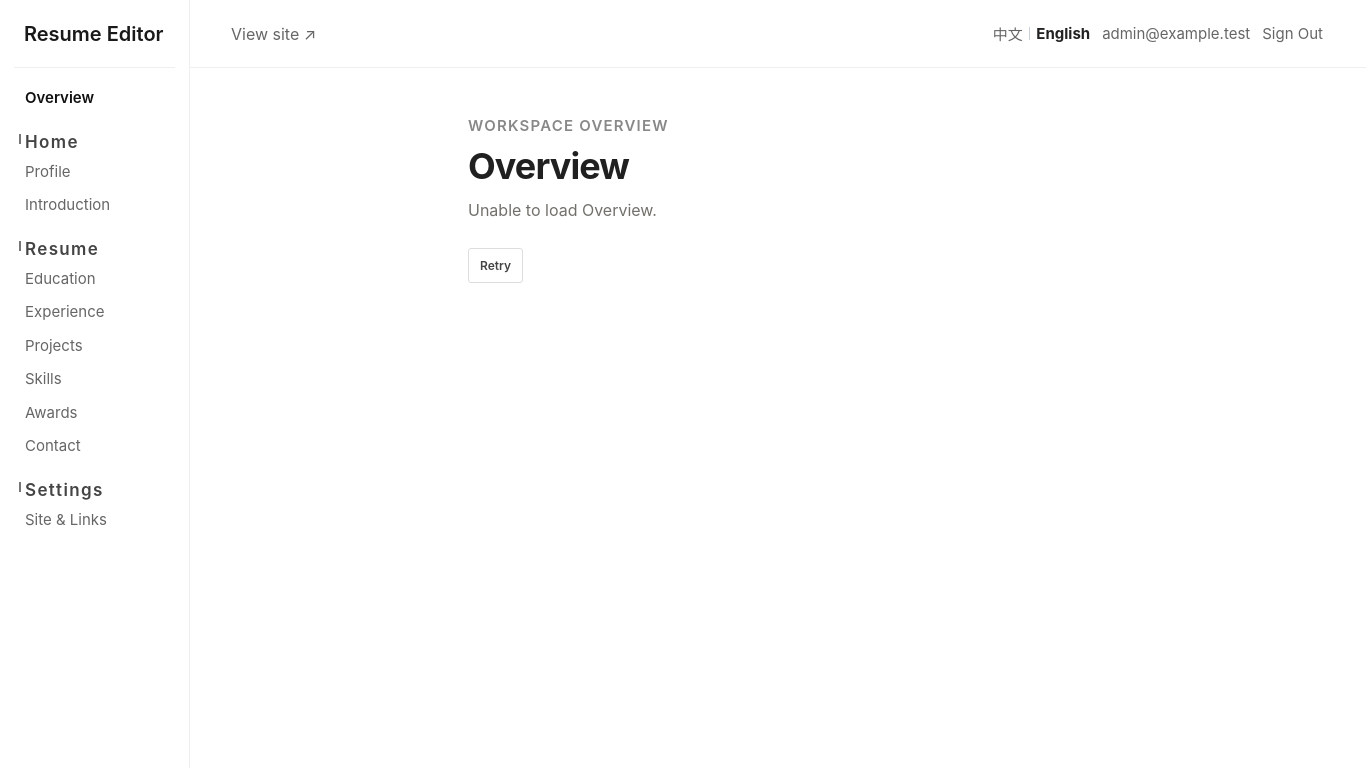
Test: Phase 5E Overview route-first loading › isolates Overview failure and retry from already loaded Profile and Education caches
The width and height of the screenshot is (1366, 768).
Expected: the message "Unable to load Overview." is shown, [468,200,657,220]
Step 1. Click the button "Retry" → (496, 265), box [468,248,523,283]
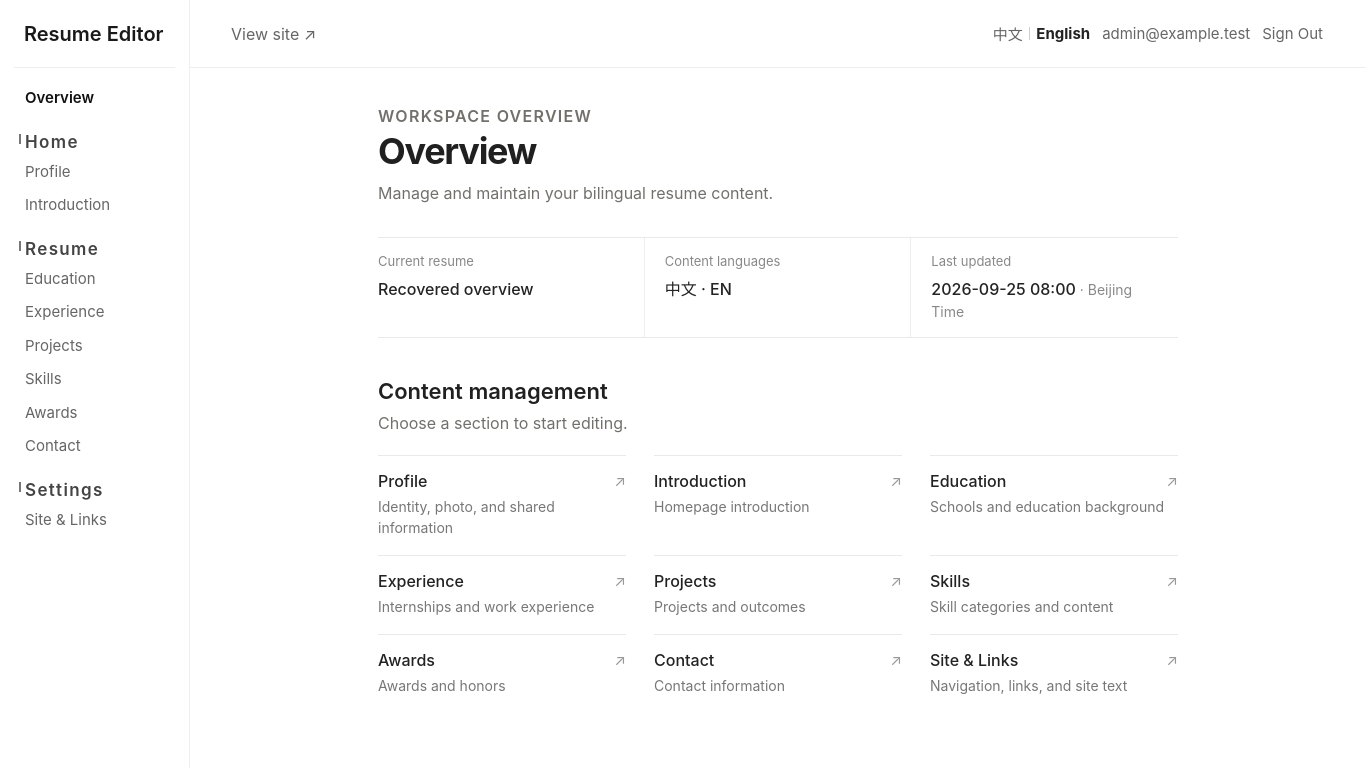
Result: the text "Recovered overview" is shown at [378,279,534,299]
